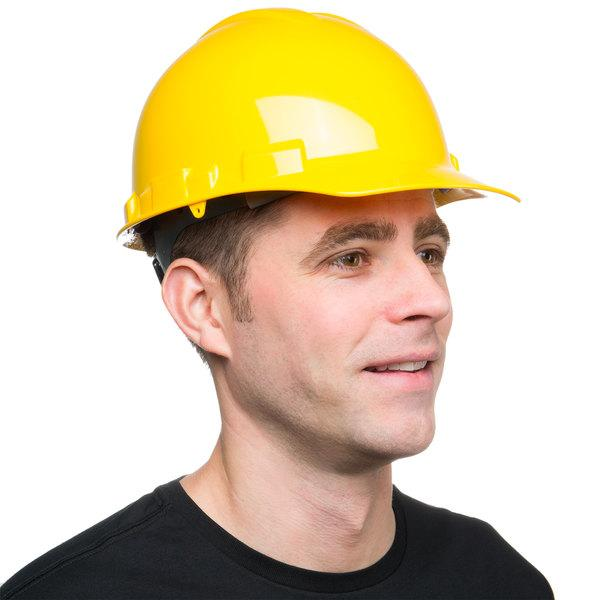helmet: (112, 10, 520, 228)
